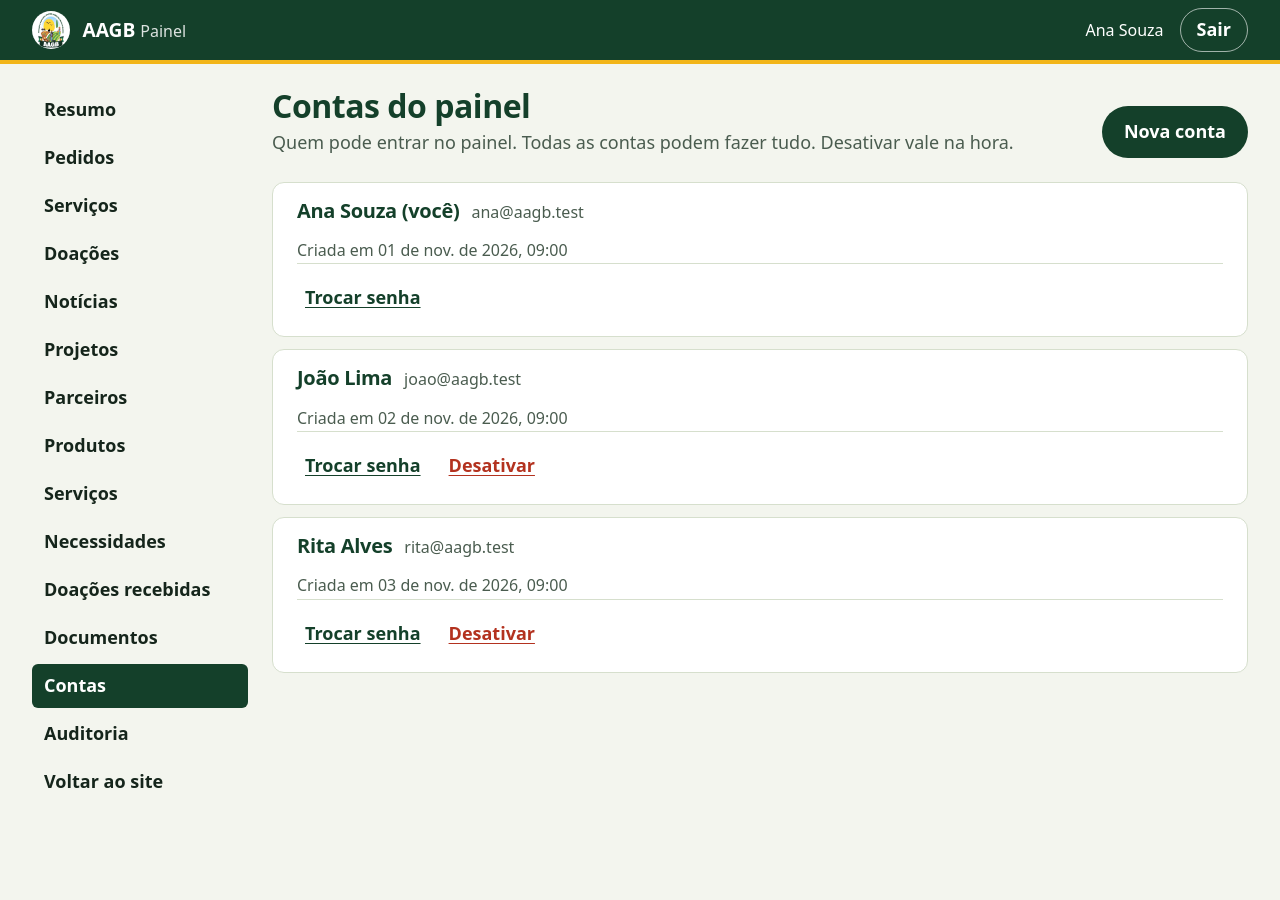
Scenario: contas: confirmação de senha › fechar a janela cancela a ação e avisa
Click the button named "Desativar João Lima" at (492, 466), box [441, 444, 543, 488]
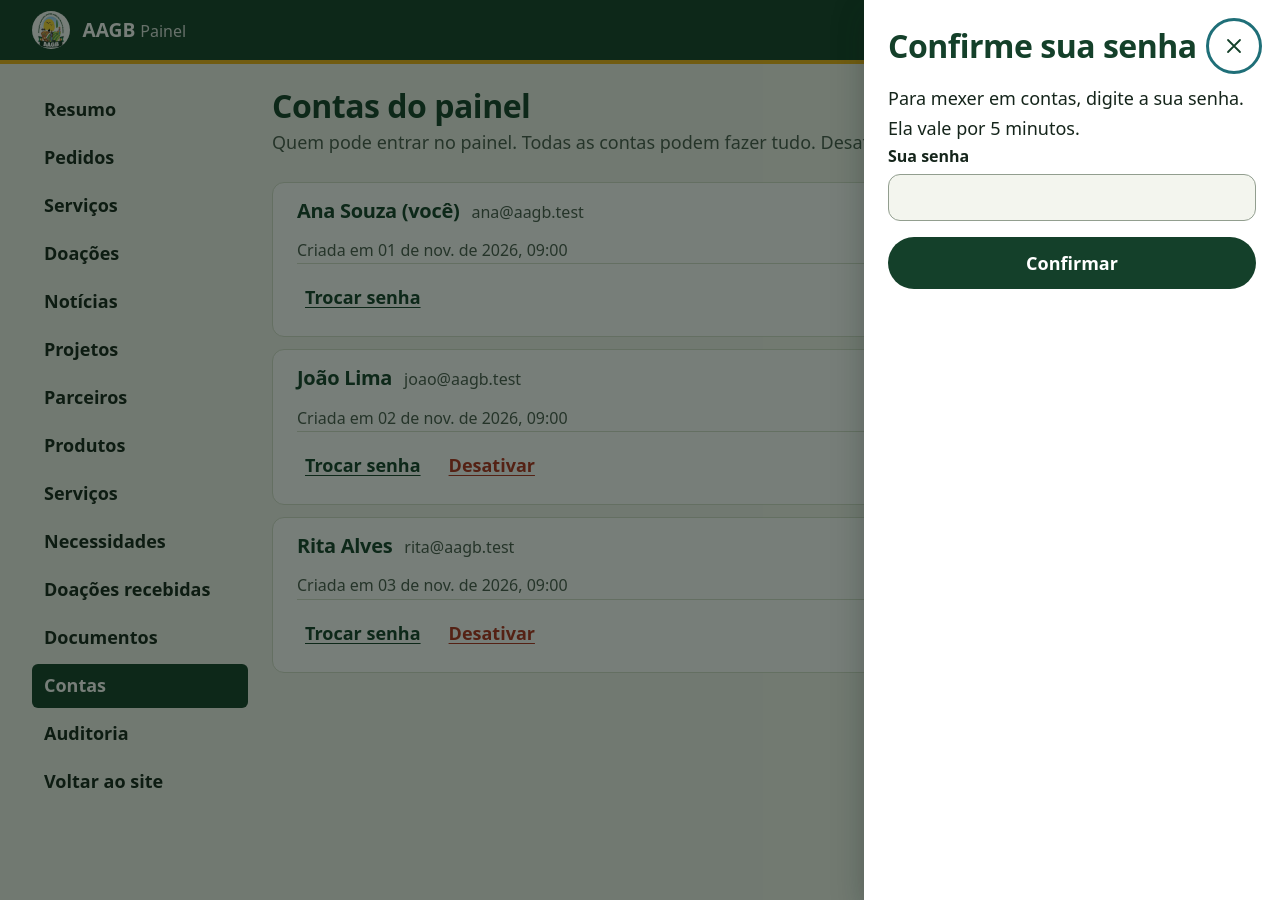
Click the button named "Fechar" at (1234, 46), box [1212, 24, 1256, 68]
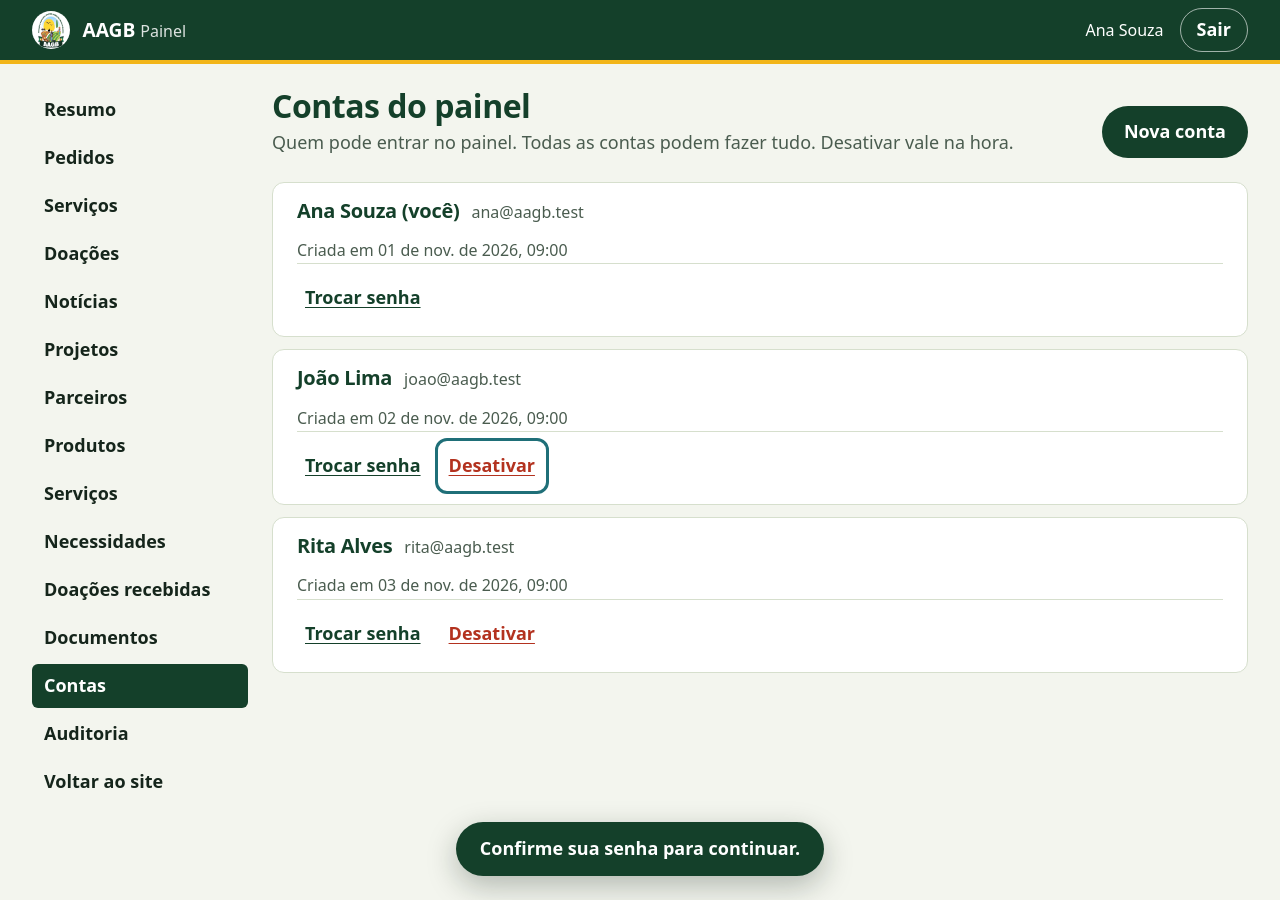
Now the text "Confirme sua senha para continuar." is shown, box [456, 822, 824, 876]
